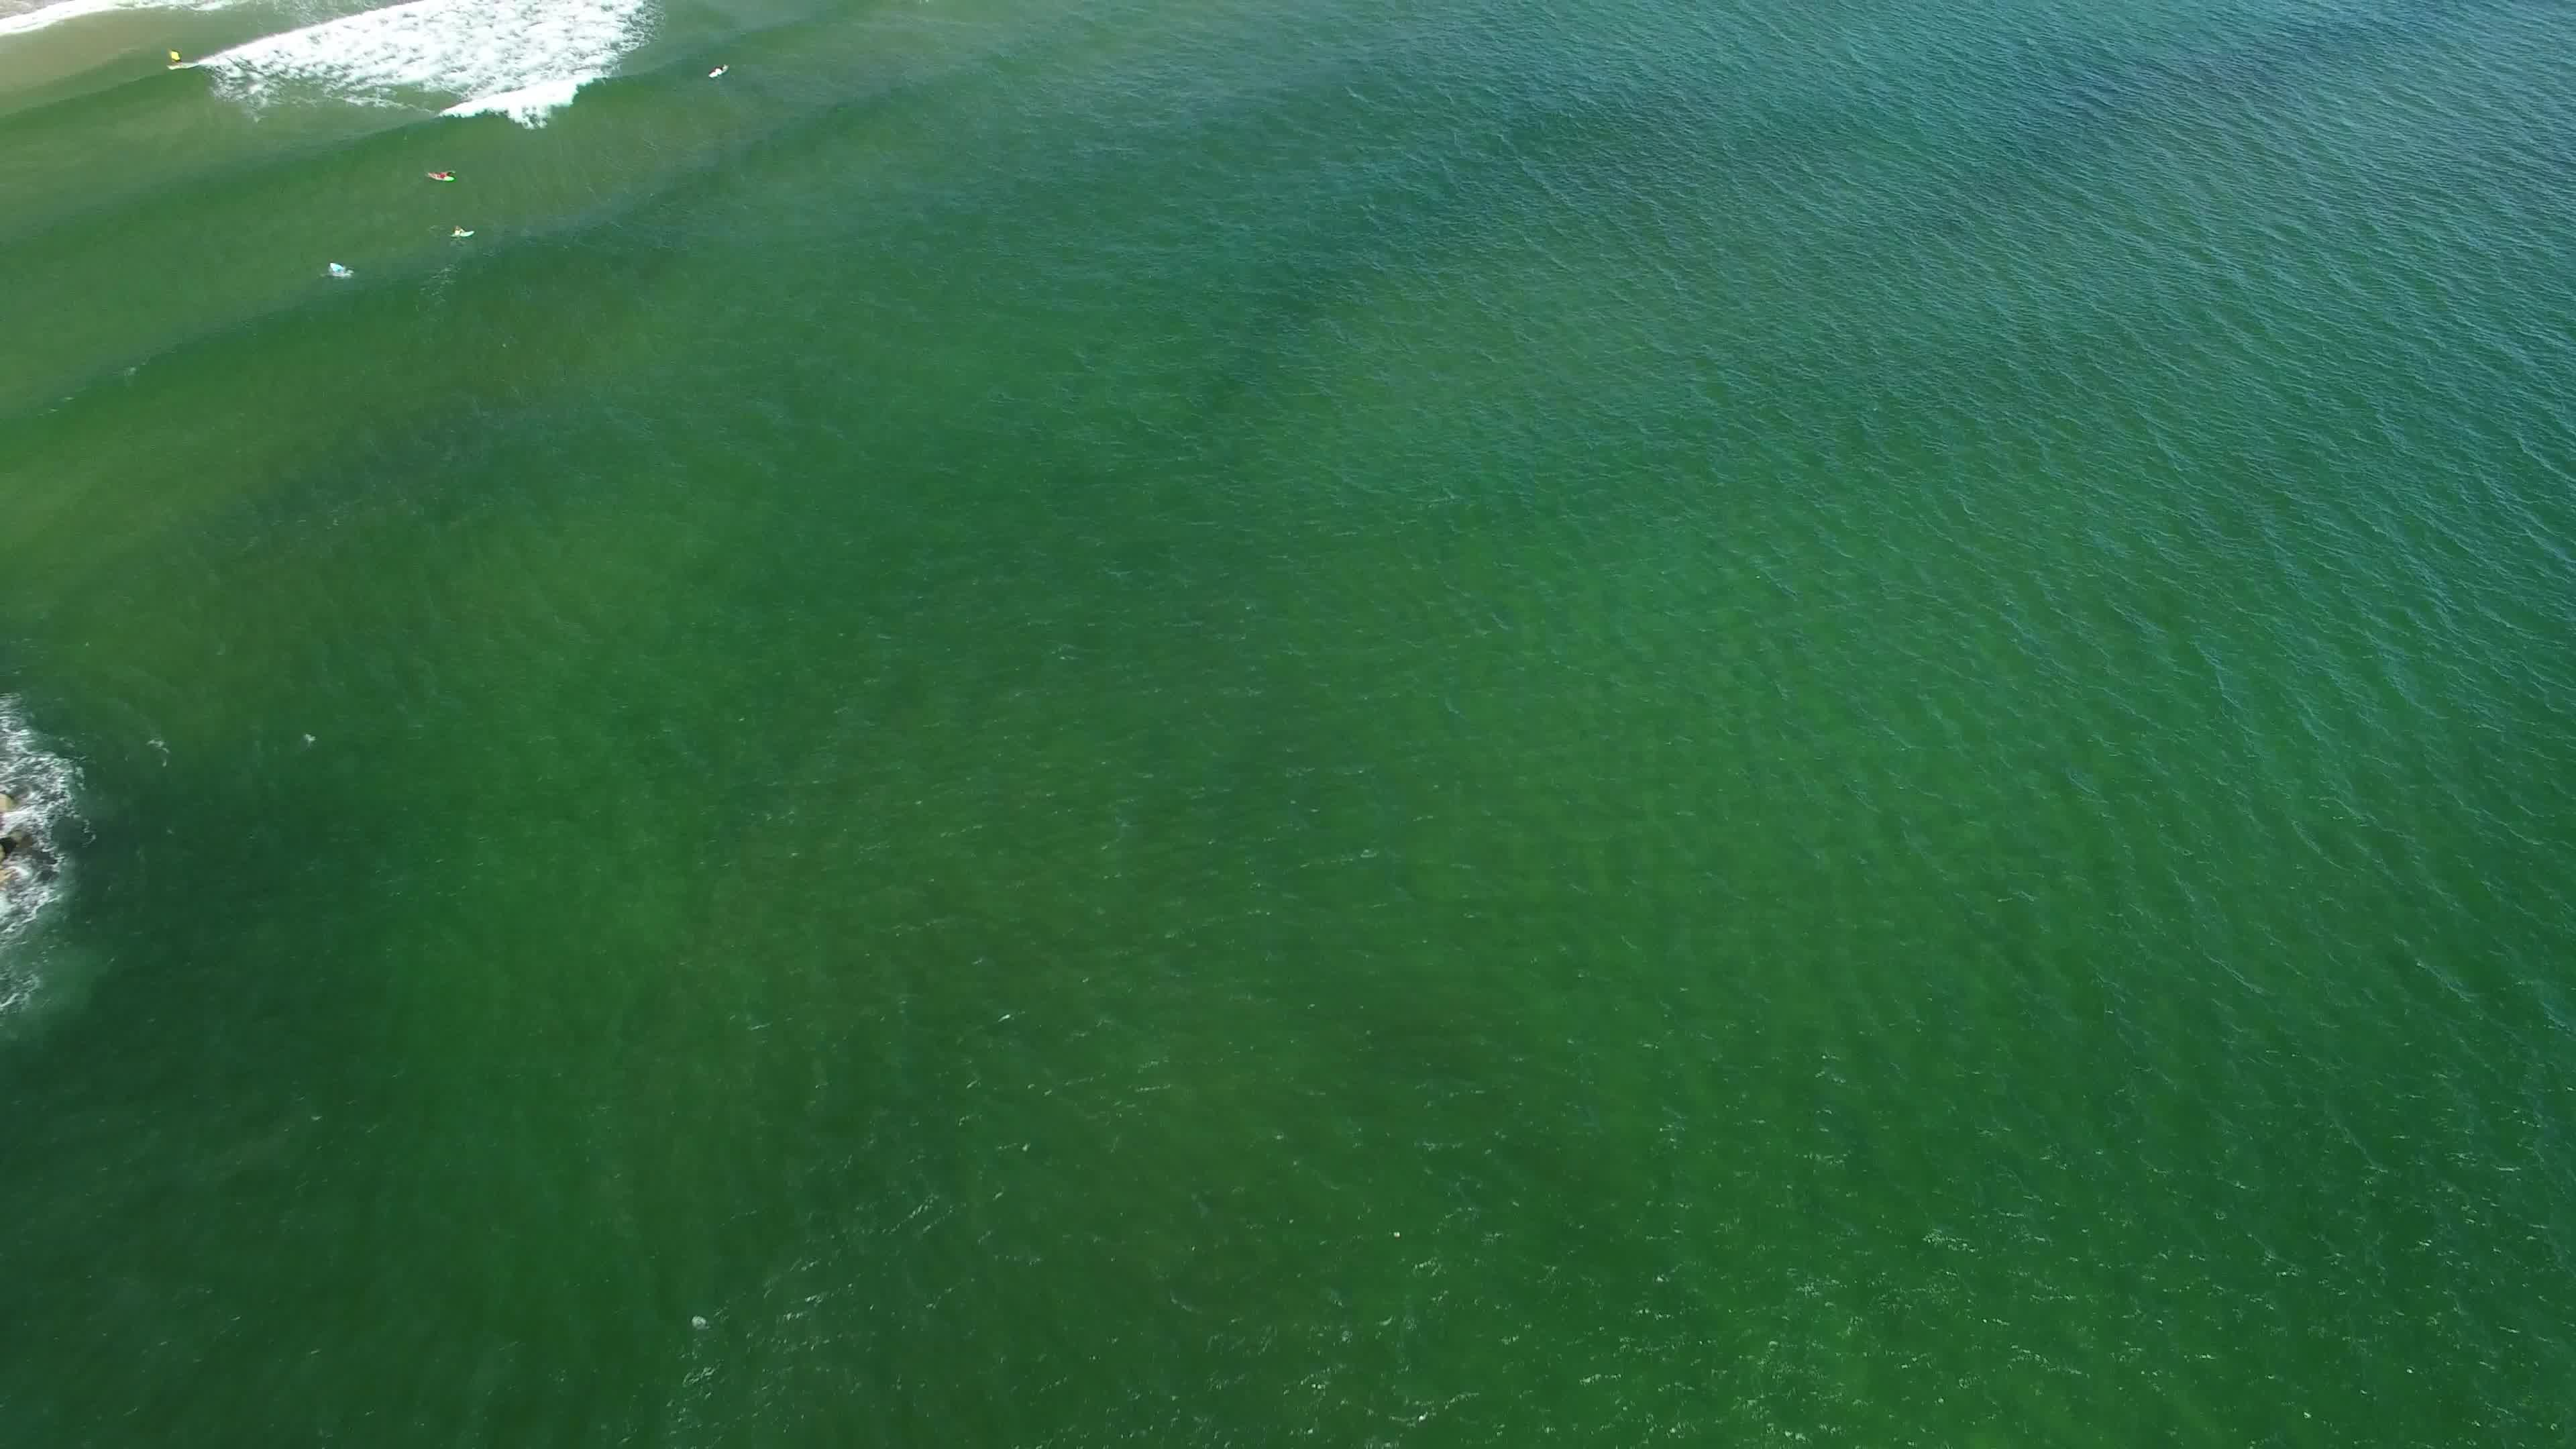surfer: (150, 44, 203, 78), (423, 163, 460, 188), (448, 223, 487, 244), (702, 60, 734, 85)
